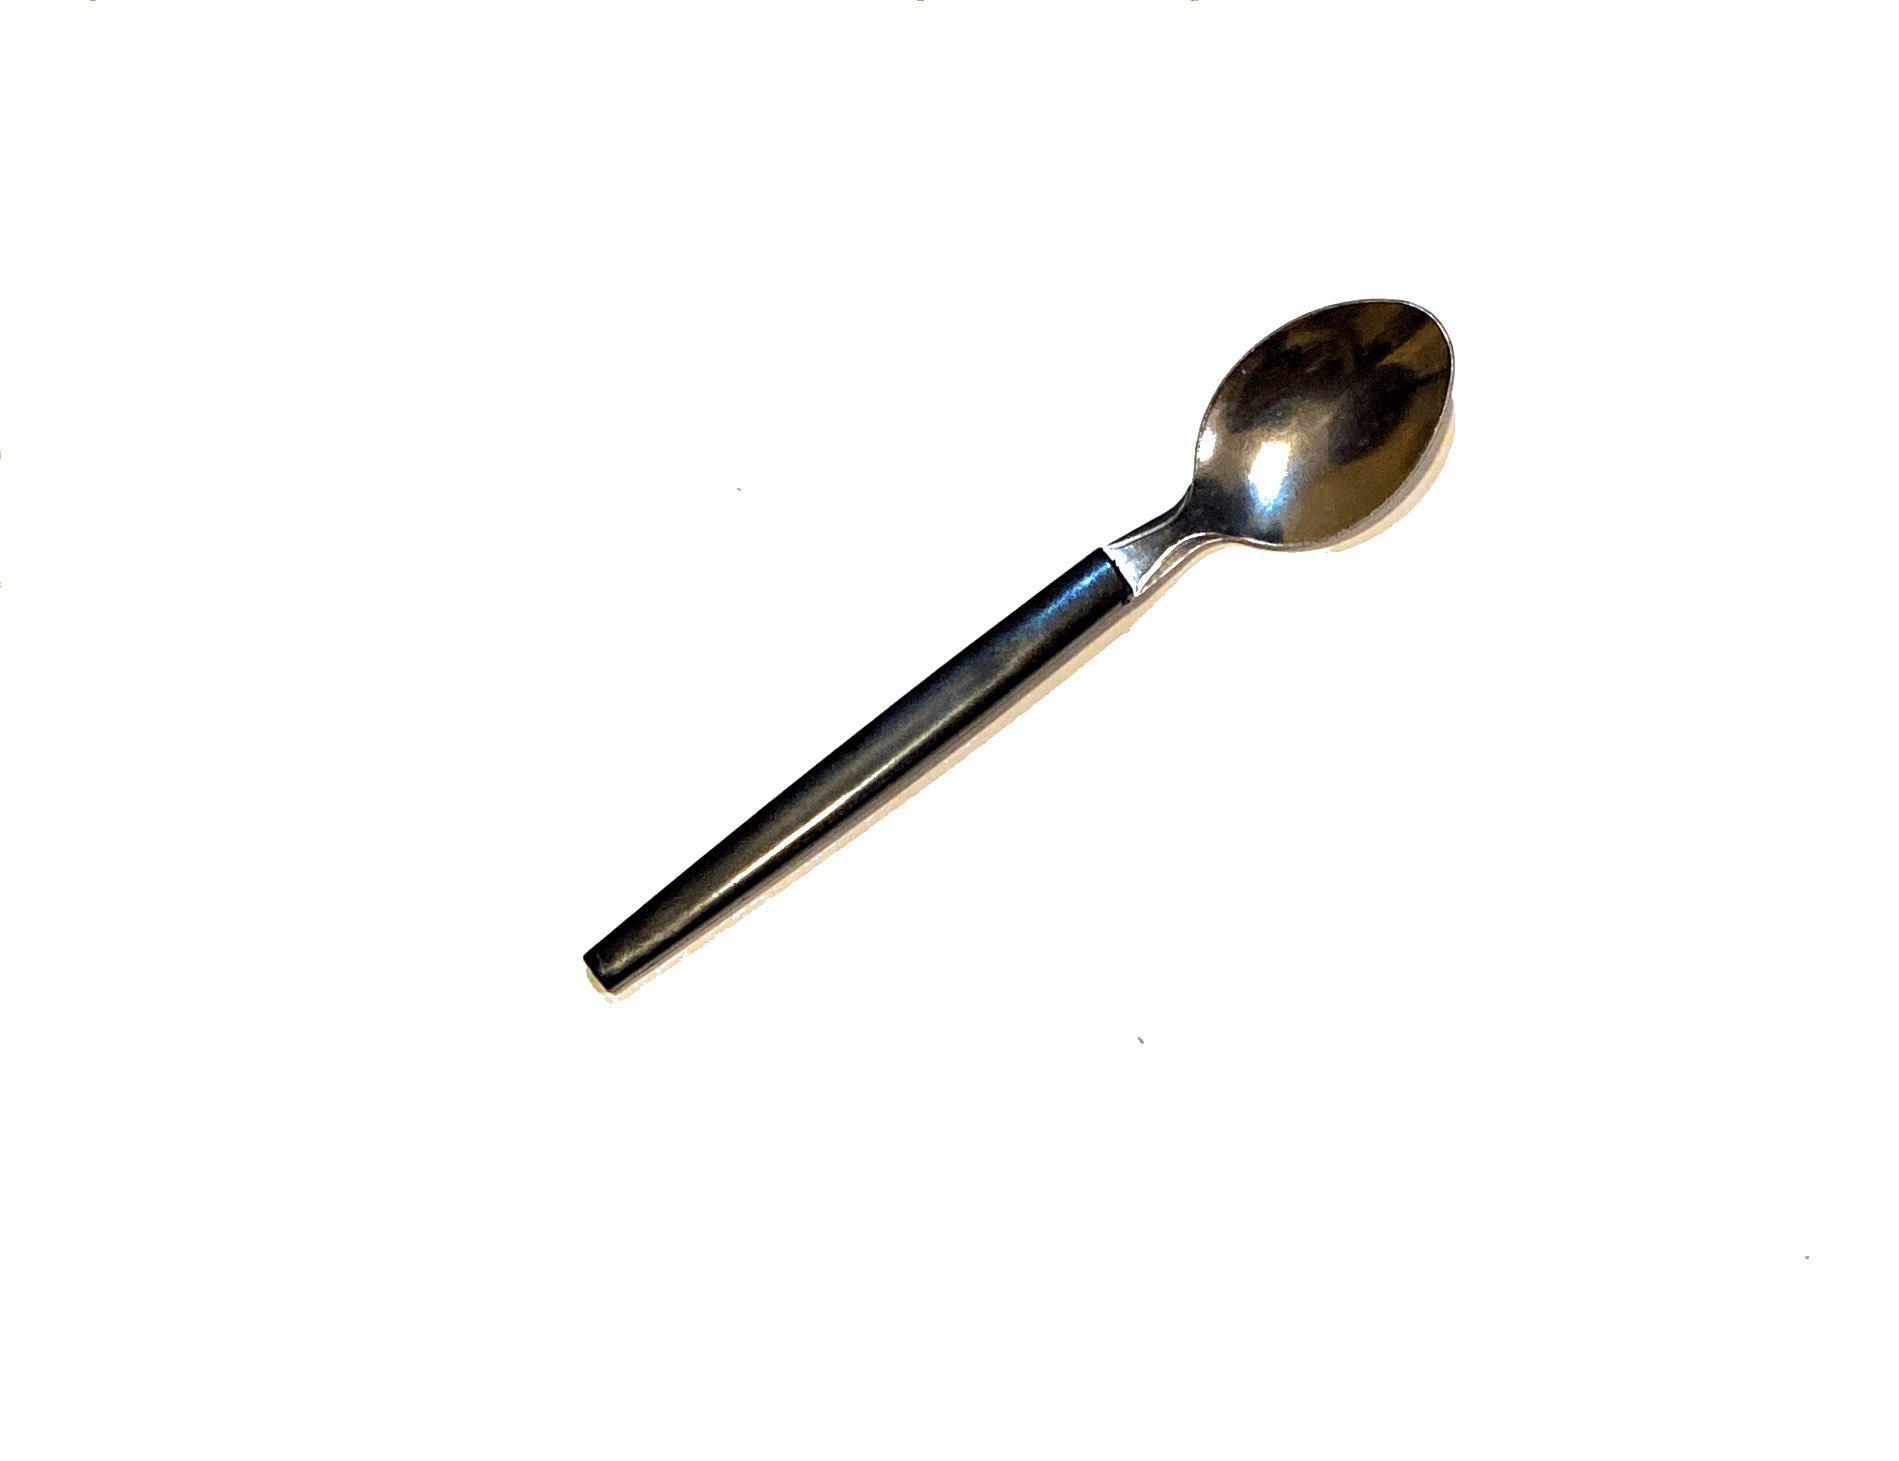Spoon: (428, 124, 1712, 1083)
